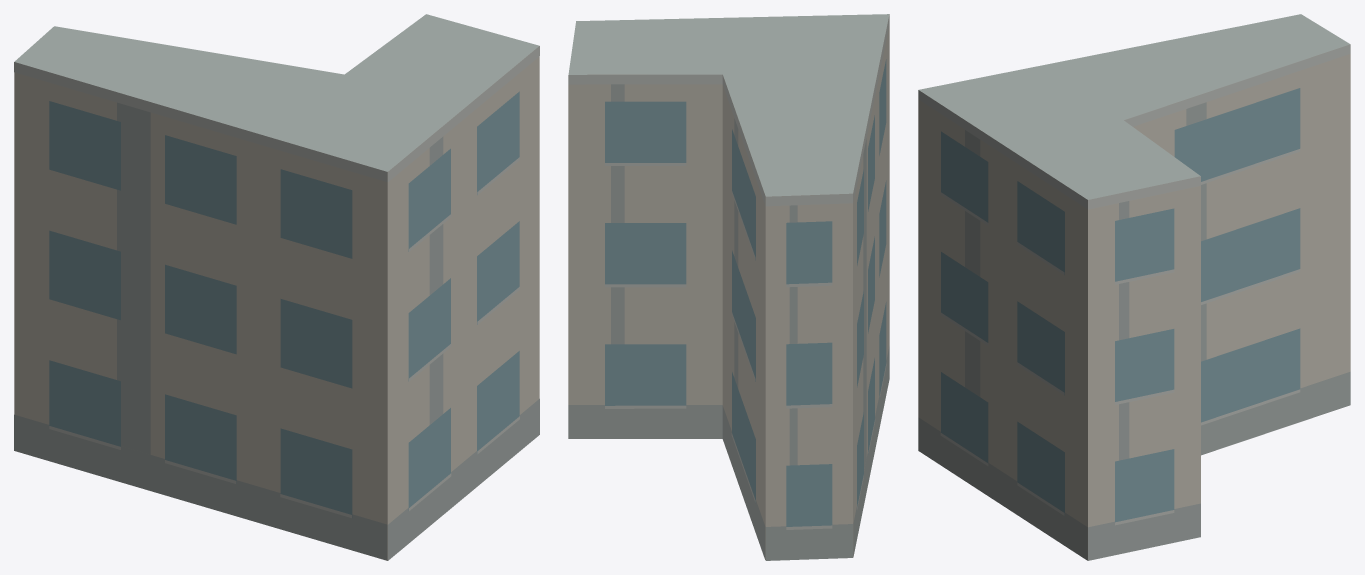
File: residential-785236eb-5ecd-45fe-a04b-6d2e35297961.glb
3 renders of one model, left to right at view 1: azimuth 30°, elevation 25°; view 2: azimuth 150°, elevation 25°; view 3: azimuth 270°, elevation 25°, orthographic. The views are drawn at different scales.
Parts seen in each view (by area): view 1: residential-785236eb-5ecd-45fe-a04b-6d2e35297961.tmp; view 2: residential-785236eb-5ecd-45fe-a04b-6d2e35297961.tmp; view 3: residential-785236eb-5ecd-45fe-a04b-6d2e35297961.tmp.
Boxes of the visible parts, x1,y1,x2,y2 form: residential-785236eb-5ecd-45fe-a04b-6d2e35297961.tmp: (14,14,539,560); residential-785236eb-5ecd-45fe-a04b-6d2e35297961.tmp: (568,14,889,560); residential-785236eb-5ecd-45fe-a04b-6d2e35297961.tmp: (918,14,1350,560).
Size of the model in its own units: 10.12 by 9.15 by 9.94.
